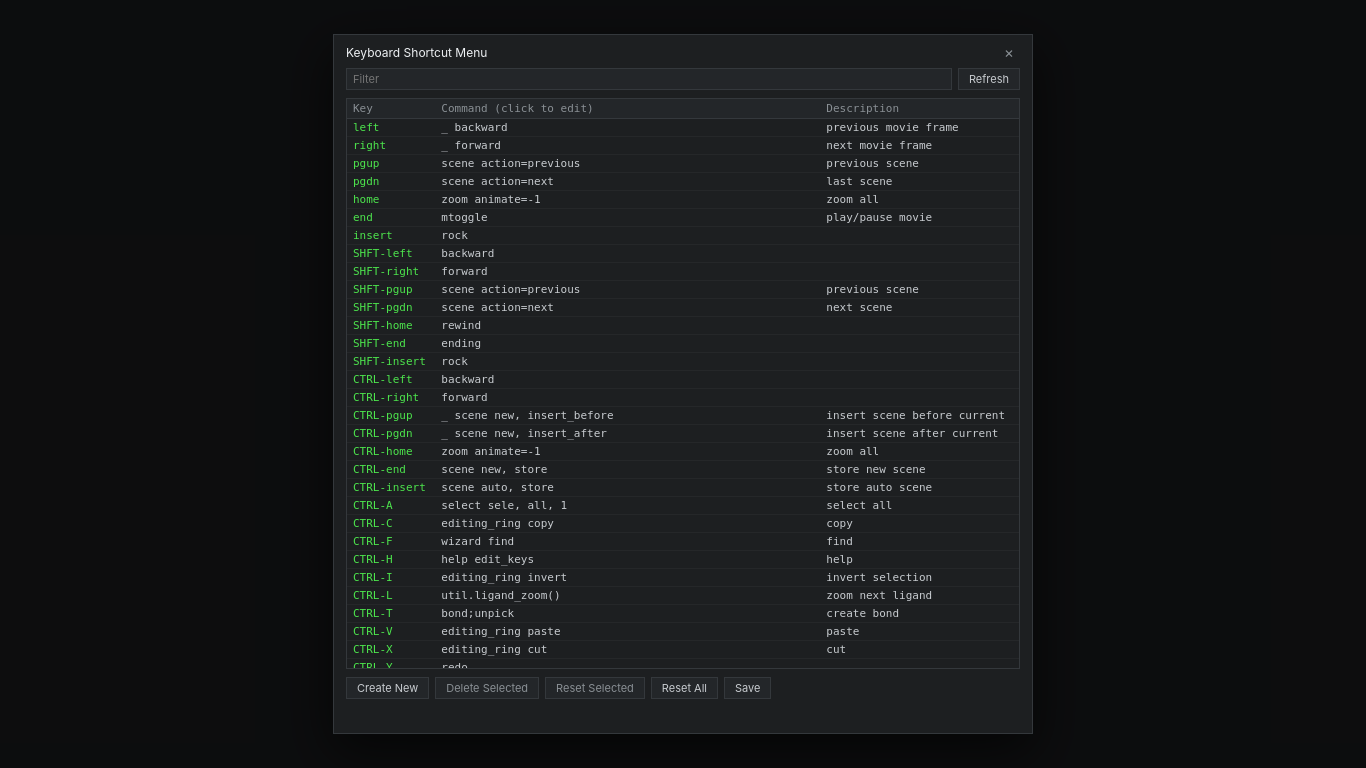
row 455 — the filterable three-column table › bootstraps the bridge module once, then falls back to the defaults and SAYS SO
Click the button "Refresh". click: click(989, 79)
box: [958,68,1020,90]
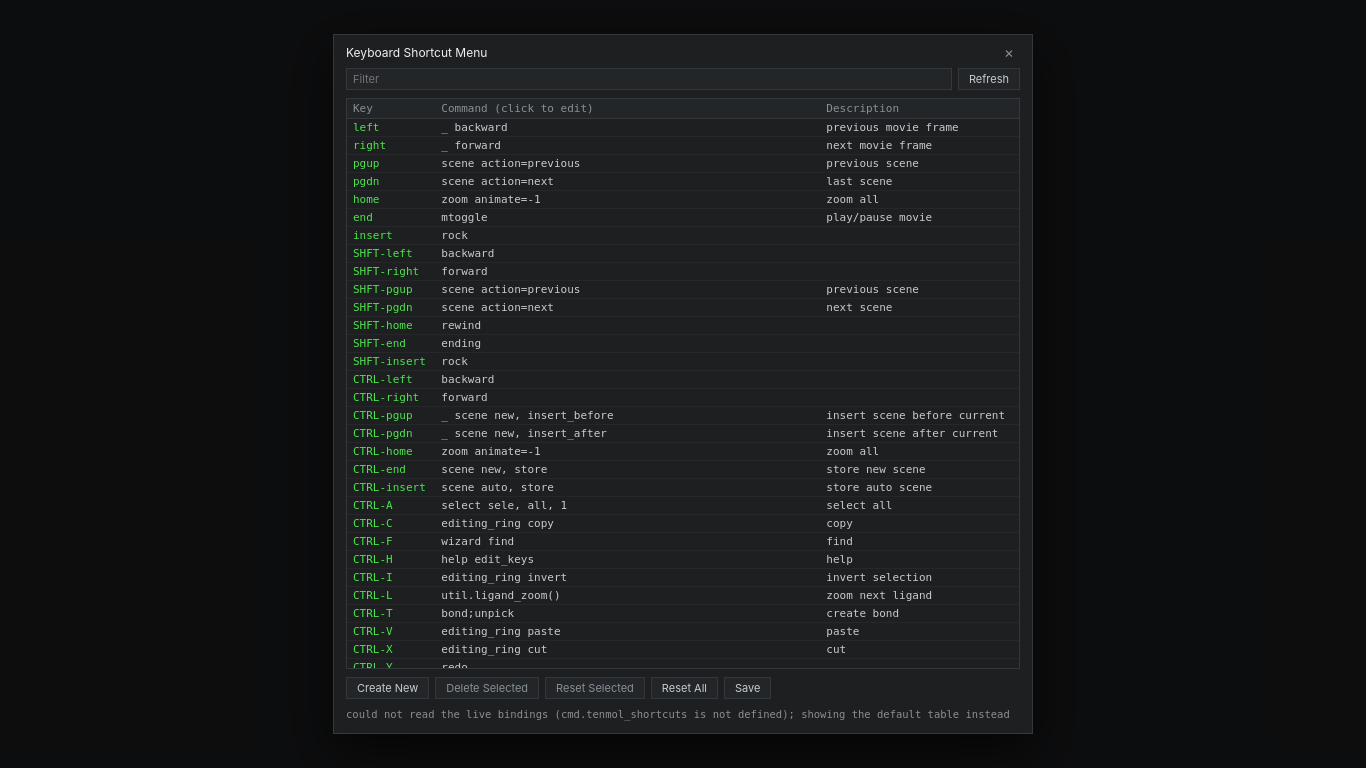
Expected: the text with test id "shortcut-status" shows "showing the default table instead", [346,708,1010,720]
